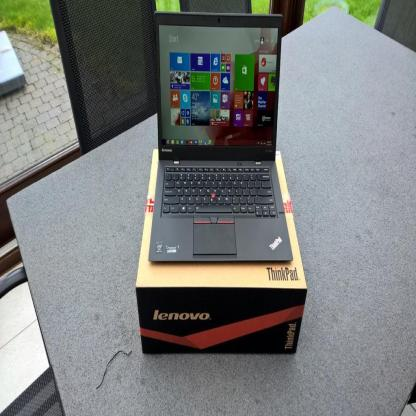board: (148, 11, 294, 261)
